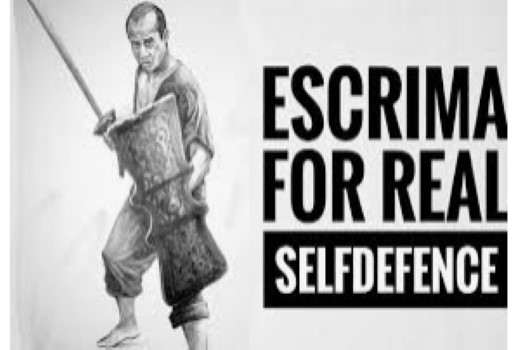baston_e: (13, 0, 106, 119)
